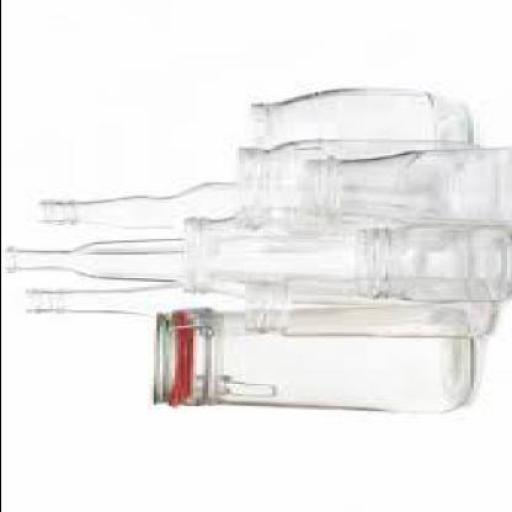glass: (152, 305, 470, 410), (232, 138, 478, 234), (302, 146, 509, 226), (241, 274, 494, 336), (180, 215, 357, 298), (354, 222, 509, 302), (247, 85, 439, 141), (30, 181, 232, 229), (3, 238, 180, 280), (21, 285, 244, 316), (430, 103, 472, 152)
